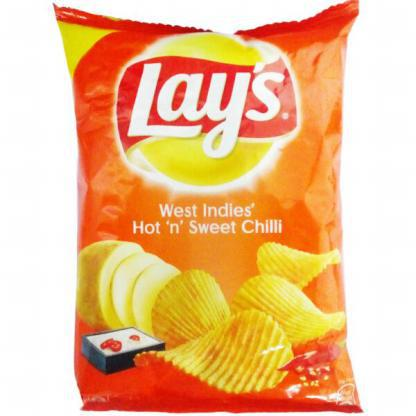hot_and_sweet: (51, 2, 376, 415)
